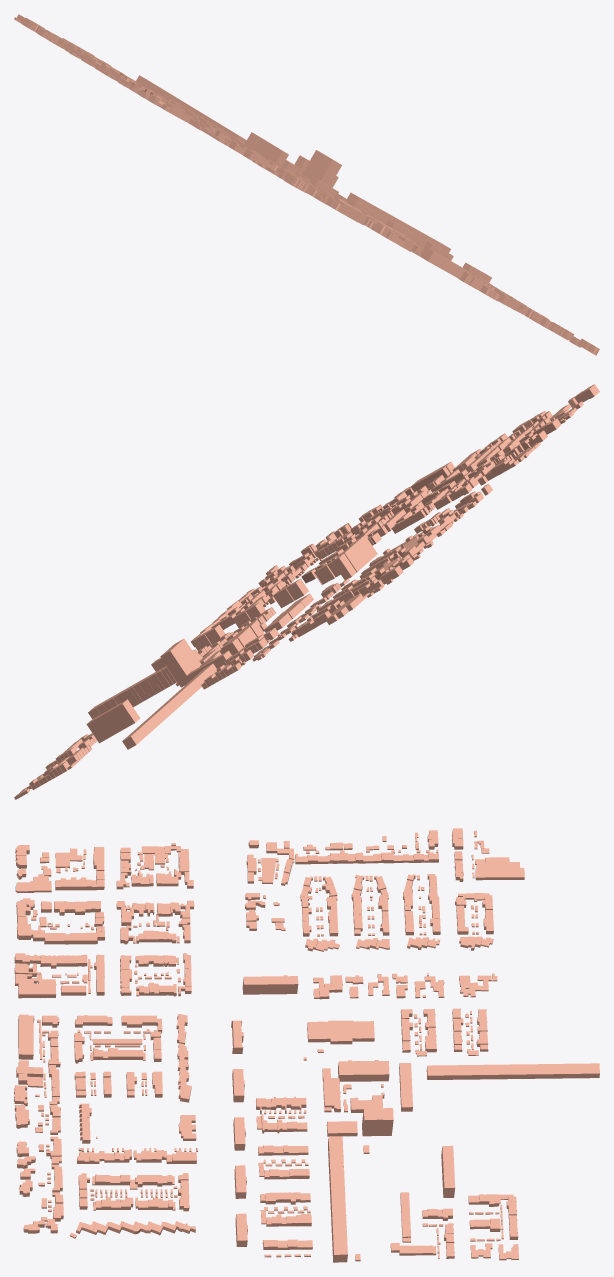
The picture shows the model from 3 angles, top to bottom: view 1: azimuth 30°, elevation 25°; view 2: azimuth 150°, elevation 25°; view 3: azimuth 270°, elevation 25°; orthographic projection. The views are drawn at different scales.
Bounding box in the file's own units: 485 × 365 × 708.
